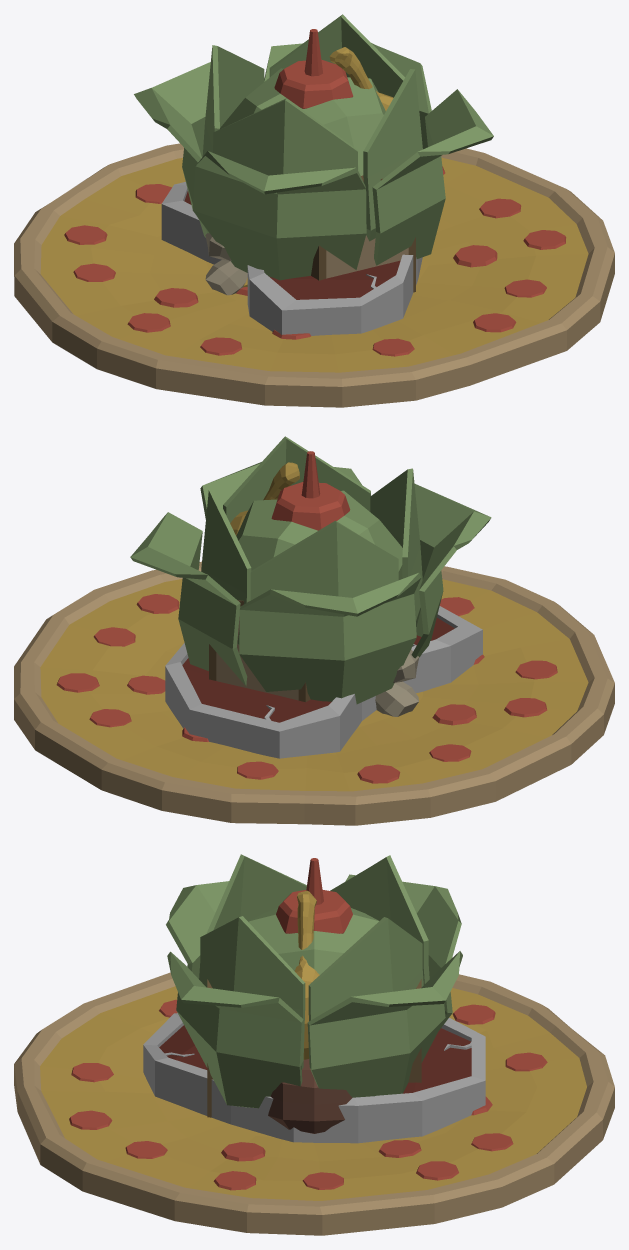
Rendered from nourriture.glb.
The picture shows the model from 3 angles, top to bottom: view 1: azimuth 30°, elevation 25°; view 2: azimuth 150°, elevation 25°; view 3: azimuth 270°, elevation 25°; orthographic projection.
Visible parts, largest first — view 1: Pizza, Lettuce_Whole, Steak, KetchupBottle, Bread, ChickenLeg, Banana; view 2: Pizza, Lettuce_Whole, Steak, KetchupBottle, ChickenLeg, Bread, Banana; view 3: Pizza, Lettuce_Whole, Steak, ChickenLeg, KetchupBottle, Banana, Bread.
Boxes of the visible parts, bbox=[...] form: Pizza: bbox=[14, 143, 614, 407]; Lettuce_Whole: bbox=[134, 14, 493, 280]; Steak: bbox=[161, 182, 422, 335]; KetchupBottle: bbox=[274, 29, 353, 108]; Bread: bbox=[311, 175, 415, 292]; ChickenLeg: bbox=[205, 233, 247, 295]; Banana: bbox=[243, 47, 393, 287]; Pizza: bbox=[14, 561, 614, 825]; Lettuce_Whole: bbox=[130, 436, 491, 704]; Steak: bbox=[165, 606, 482, 758]; KetchupBottle: bbox=[271, 451, 350, 530]; ChickenLeg: bbox=[375, 649, 419, 716]; Bread: bbox=[209, 600, 310, 702]; Banana: bbox=[230, 462, 299, 535]; Pizza: bbox=[14, 972, 614, 1235]; Lettuce_Whole: bbox=[166, 854, 462, 1108]; Steak: bbox=[143, 1013, 485, 1143]; ChickenLeg: bbox=[268, 1059, 352, 1133]; KetchupBottle: bbox=[276, 858, 352, 933]; Banana: bbox=[294, 890, 319, 1059]; Bread: bbox=[207, 979, 421, 1117].
Bounding box in the file's own units: 3.37 × 1.53 × 3.36.
